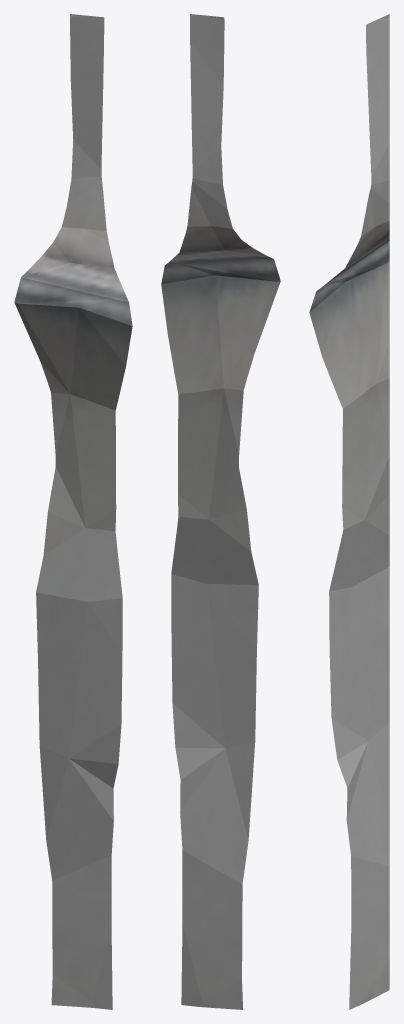
3 views of the same model, side by side, from view 1: azimuth 30°, elevation 25°; view 2: azimuth 210°, elevation 25°; view 3: azimuth 270°, elevation 25° (orthographic).
Size of the model in its own units: 0.0693 by 0.8374 by 0.0618.
1 material, 1 textured.
